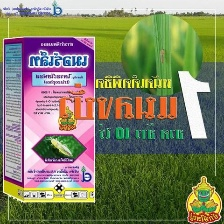carton: (0, 34, 97, 205)
